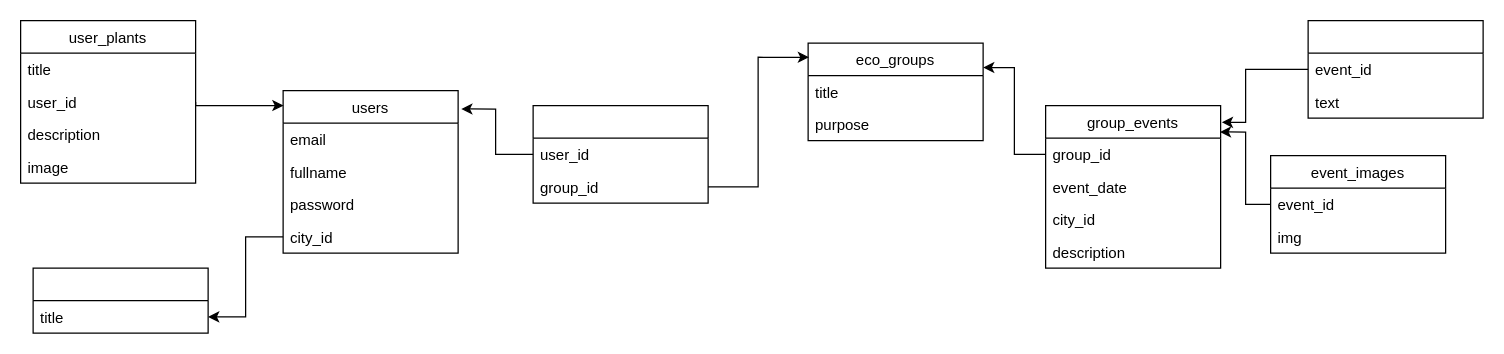
Some shapes in this 1504 by 354 pixel diagram are drawn without their labels. The shapes that lost their labels are listed below. From the top down, each one's box as (x1, y1, x2, y2) in pixels, then its label:
(1307, 19, 1483, 118): comments
(532, 104, 708, 203): users_groups
(32, 267, 208, 333): cities
